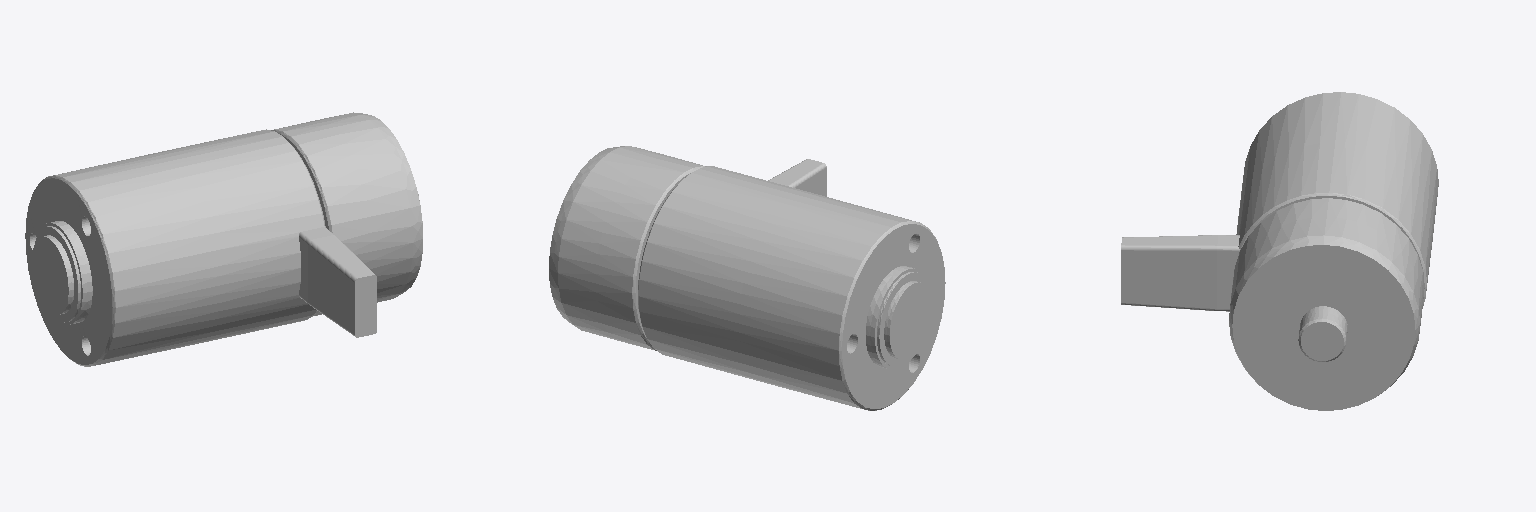
File: motor_right_rear.obj
3 views of the same model, side by side, from view 1: azimuth 30°, elevation 25°; view 2: azimuth 150°, elevation 25°; view 3: azimuth 270°, elevation 25° (orthographic).
Visible parts, largest first — view 1: Body1.115_Body1.045; view 2: Body1.115_Body1.045; view 3: Body1.115_Body1.045.
Boxes of the visible parts, <box> form: Body1.115_Body1.045: <box>25,112,422,366</box>; Body1.115_Body1.045: <box>549,146,945,410</box>; Body1.115_Body1.045: <box>1121,92,1438,410</box>.
Size of the model in its own units: 0.0507 by 0.0244 by 0.0396.